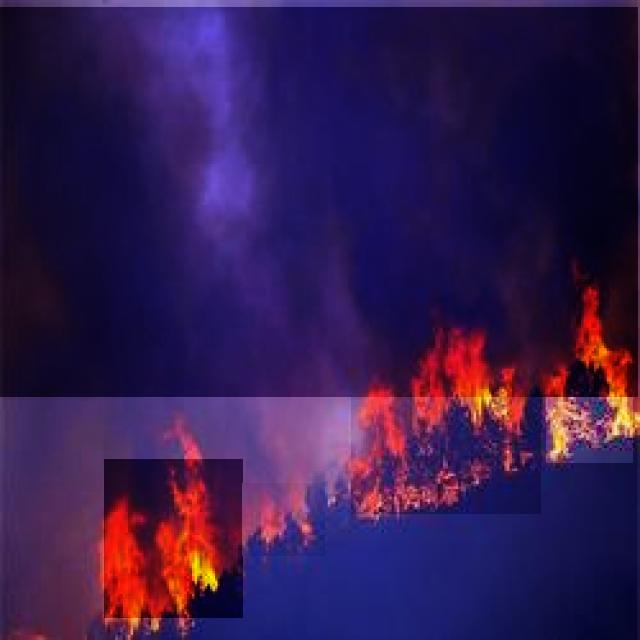Fire: (351, 343, 541, 514), (87, 459, 243, 618), (546, 282, 633, 463), (242, 483, 325, 556)
Smoke: (0, 7, 638, 397), (3, 401, 104, 640)
